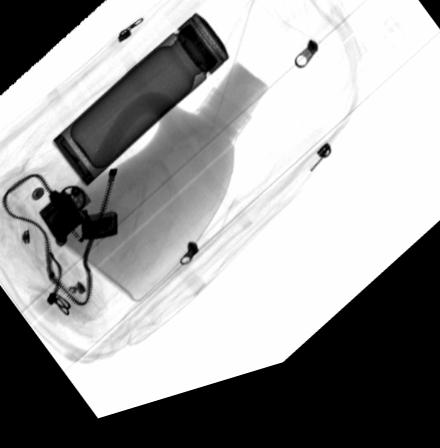Lighter: (37, 190, 118, 247)
